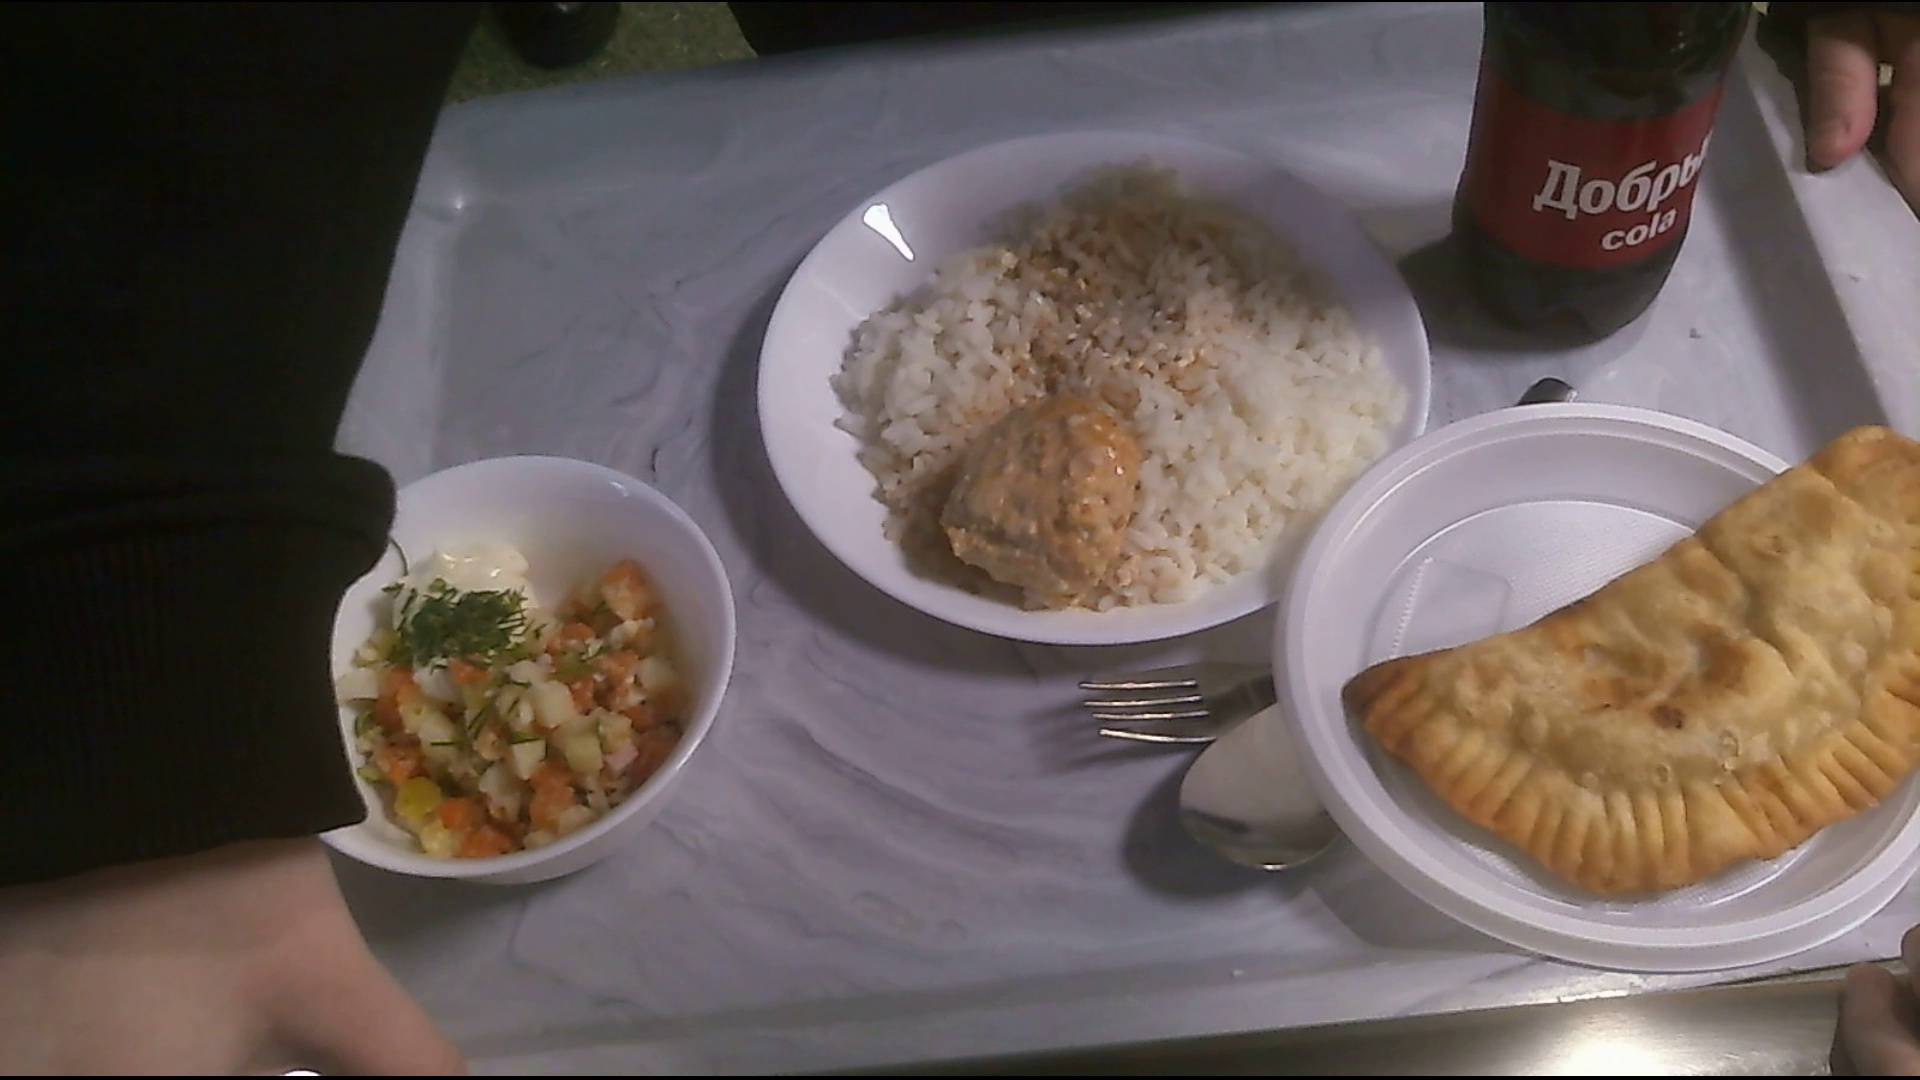bowl: (295, 464, 749, 866)
drink: (1455, 1, 1724, 328)
plate: (1292, 400, 1920, 960), (745, 140, 1429, 644)
